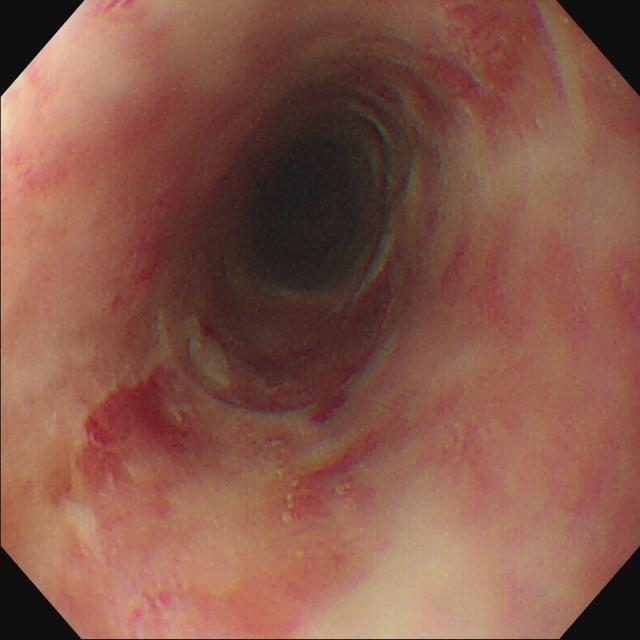A: (427, 2, 529, 145), (285, 431, 383, 523), (442, 238, 524, 340), (109, 196, 168, 310)
C: (96, 381, 180, 446), (311, 395, 348, 425)
E: (263, 139, 362, 275)
J: (186, 330, 236, 392)
